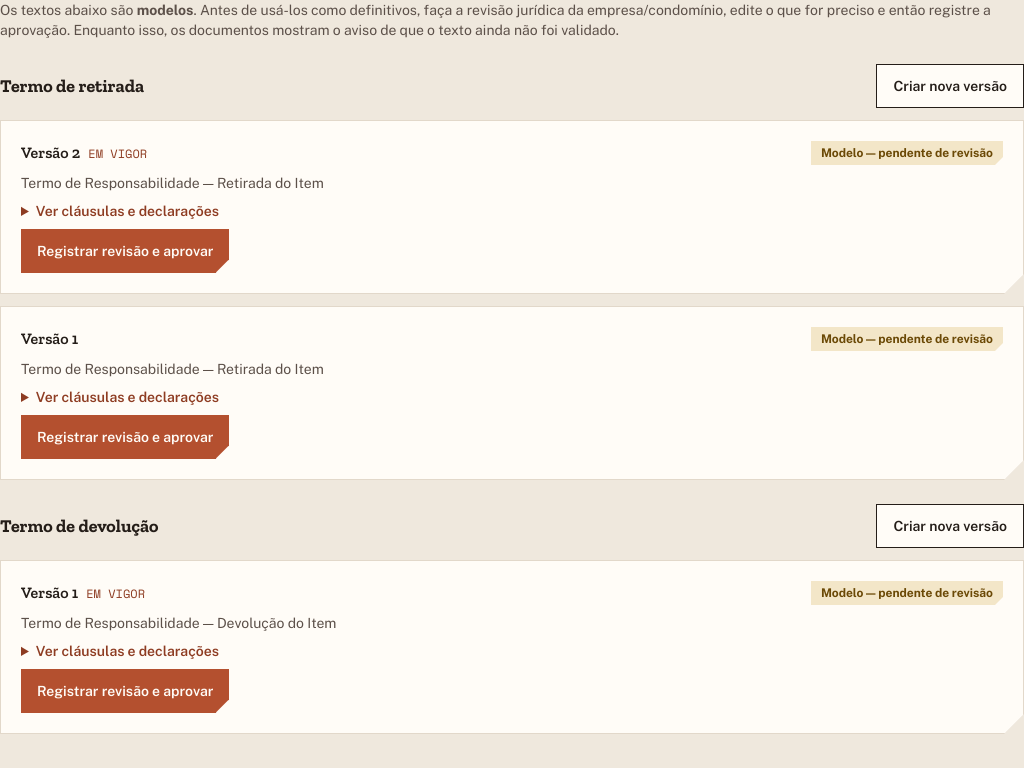
it: AbaTermos › criar nova versão parte do texto em vigor e envia cláusulas e declarações bem formadas
Click the button with aria-label "Criar nova versão do termo de retirada" at (950, 86), box [876,64,1023,108]
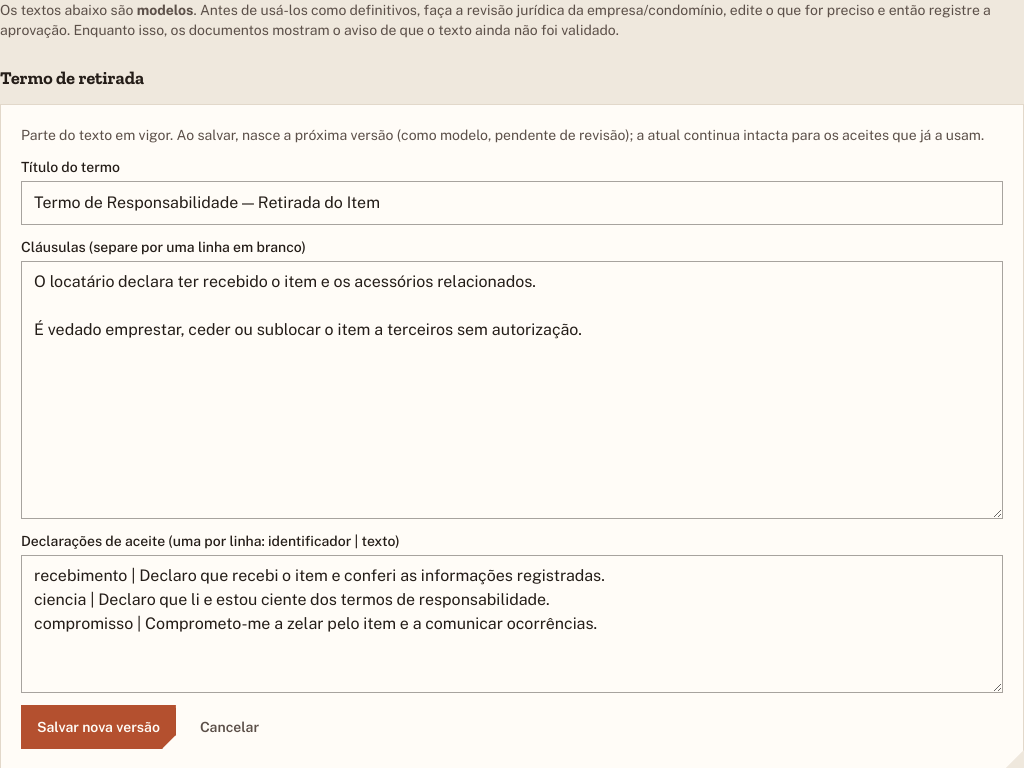
Check: the field labelled "Título do termo" holds "Termo de Responsabilidade — Retirada do Item"
Replace the text in the field labelled "Título do termo" with "Termo de Retirada revisado" at (512, 203), box [21,181,1003,225]
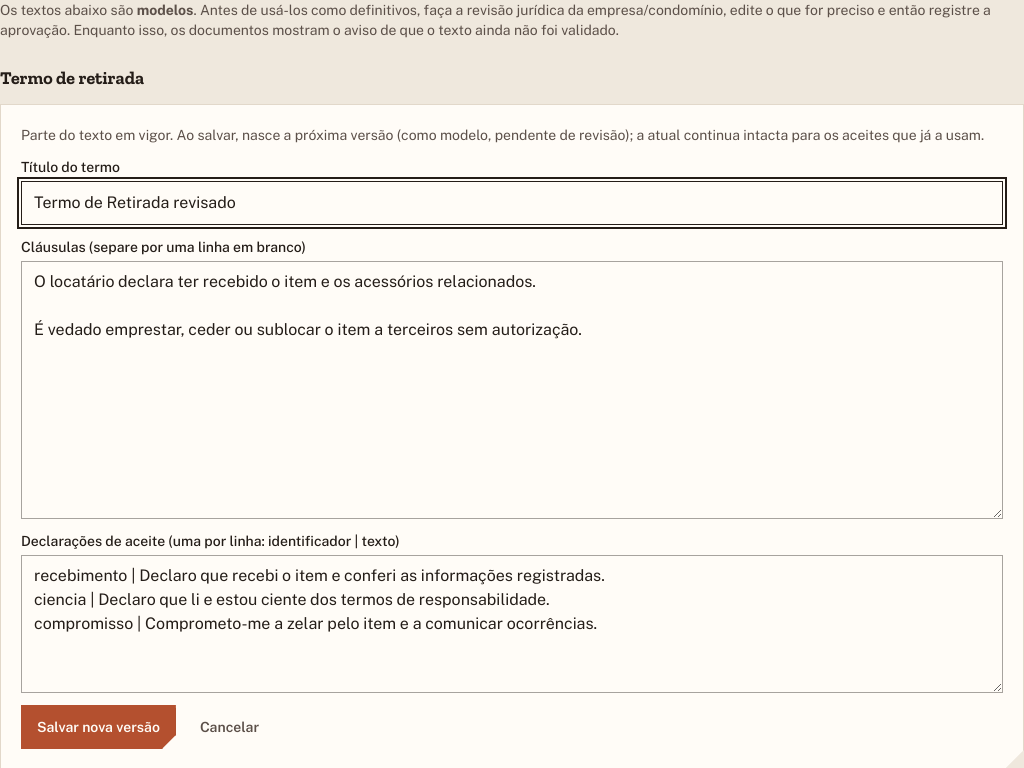
Click the button "Salvar nova versão" at (98, 727), box [21,705,176,749]
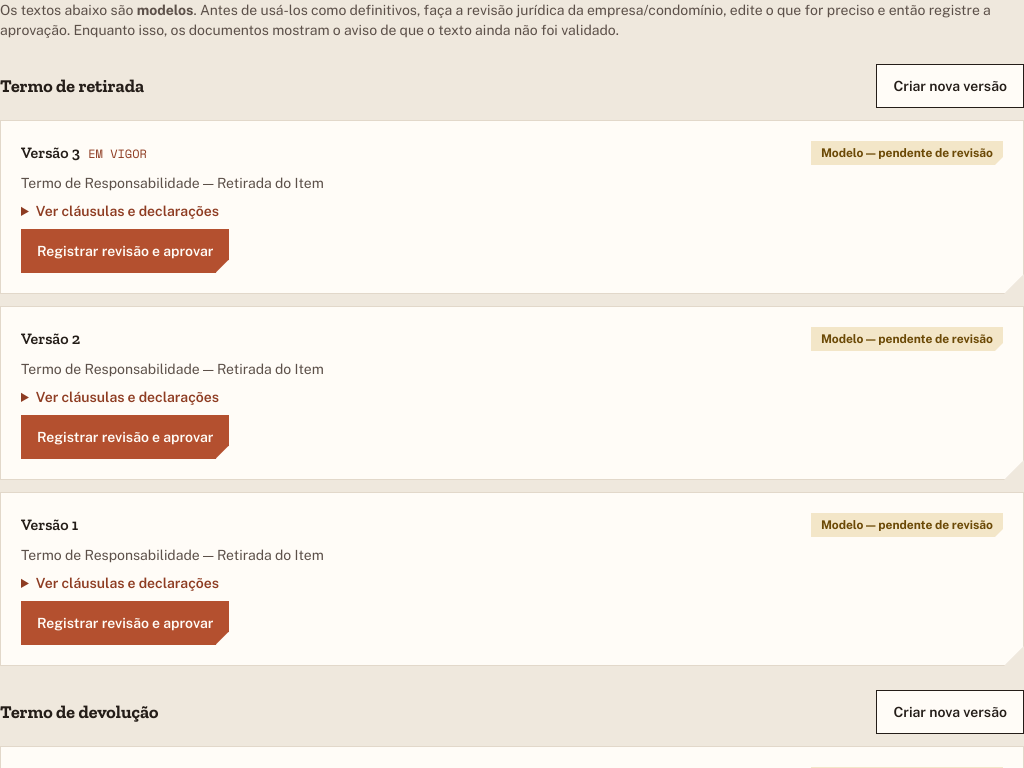
Check: the text "Versão 3" is shown, box [21,141,147,165]
Check: the label labelled "Título do termo" is gone
